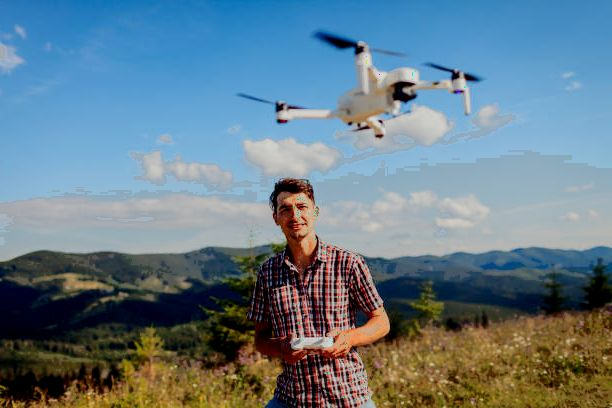Drone: (234, 25, 487, 143)
